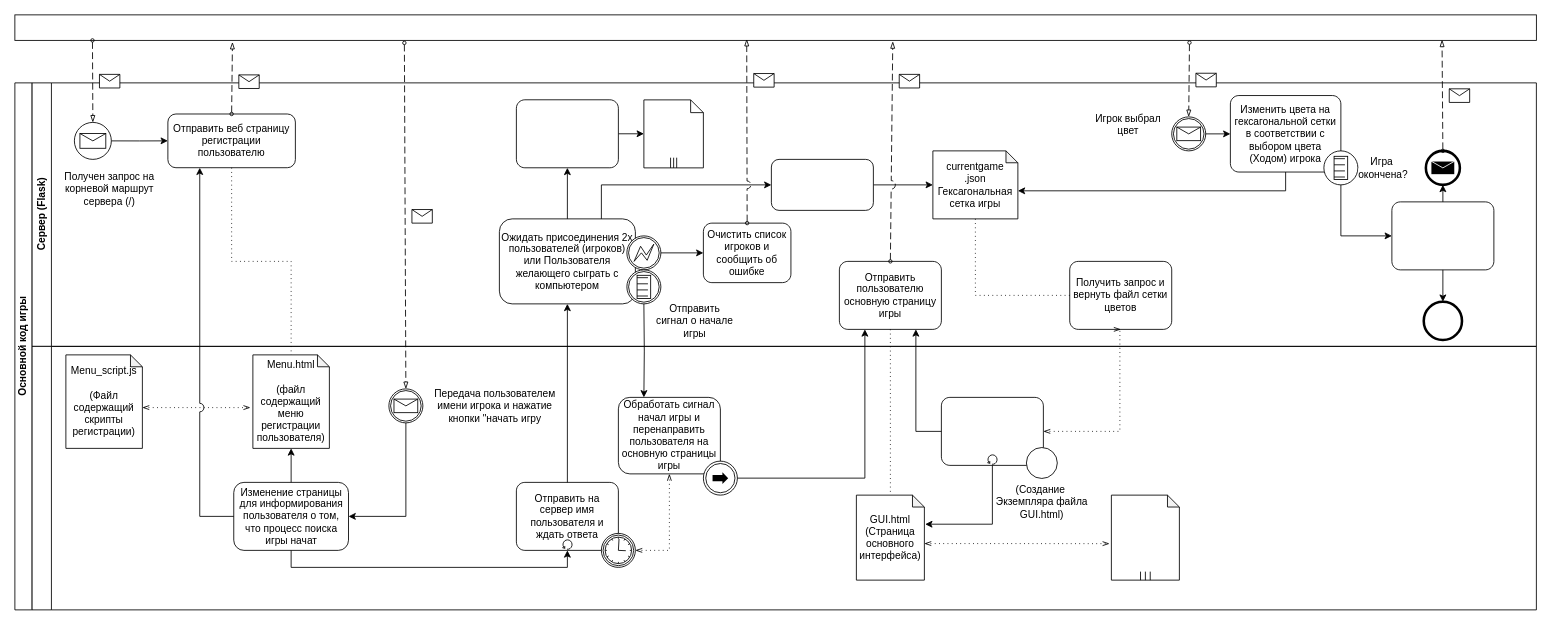
Some shapes in this 1551 by 625 pixel diagram are drawn without their labels. Each missing label, with the box of its shape:
Запрос сетки цветов и их отрисовка в графическом интерфейсе: (941, 397, 1043, 465)
Клиент (Web-страницы): (31, 346, 1536, 610)
Объекты-игроки: (643, 99, 703, 168)
Подсчитать результат и вывести Победителя игры: (1391, 201, 1494, 270)
Пользователь: (14, 14, 1536, 40)
Скрипты (JS файлы со скриптами: (1111, 494, 1179, 580)
Создать Объекты класса "Player" и "AI_Player" по необходимости: (516, 99, 618, 168)
Создать Экземпляр класса "HexGrid" и сохранить его в JSON - файл: (771, 159, 873, 210)
